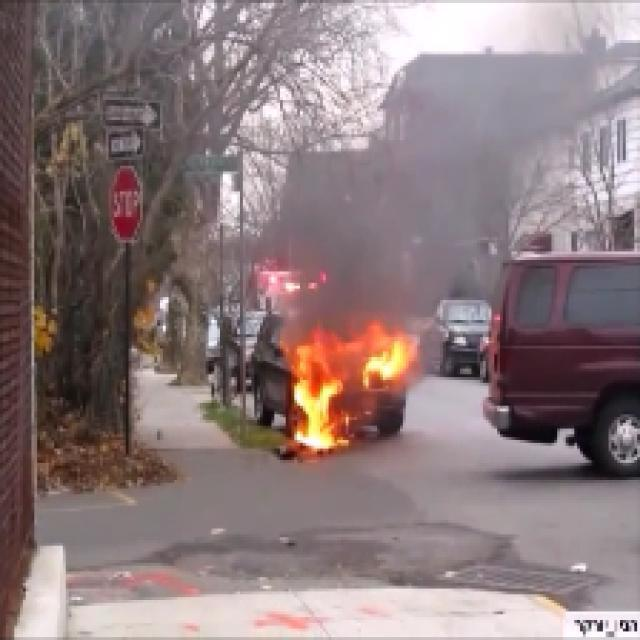Fire: (292, 332, 413, 454)
Smoke: (320, 142, 478, 293)
